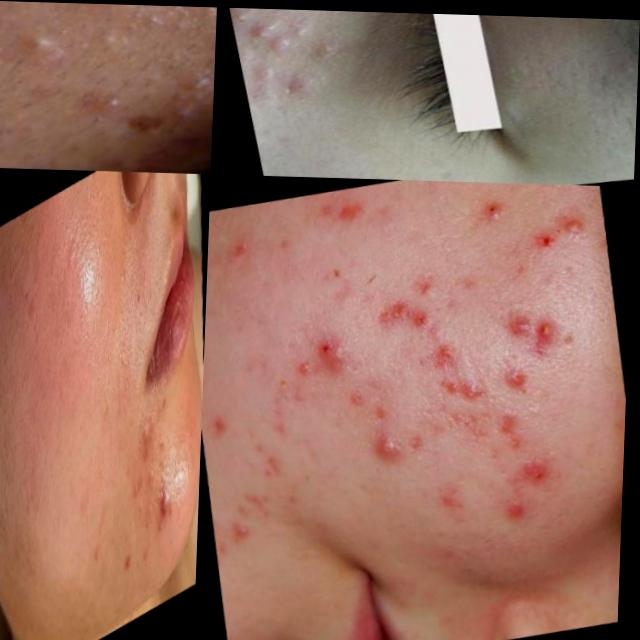8: (271, 52, 341, 108), (494, 483, 545, 540), (511, 441, 567, 489), (306, 322, 354, 377), (494, 305, 541, 342), (140, 398, 160, 464), (160, 477, 175, 529), (127, 546, 138, 575)
9: (264, 19, 319, 59), (367, 414, 405, 457), (539, 210, 591, 241), (239, 14, 280, 48), (77, 2, 122, 17)
blackheads: (366, 293, 438, 339), (416, 329, 454, 376), (441, 407, 488, 439), (332, 194, 377, 227), (431, 373, 482, 398)
dark spot: (63, 226, 82, 277), (157, 428, 170, 457), (139, 495, 149, 518)
